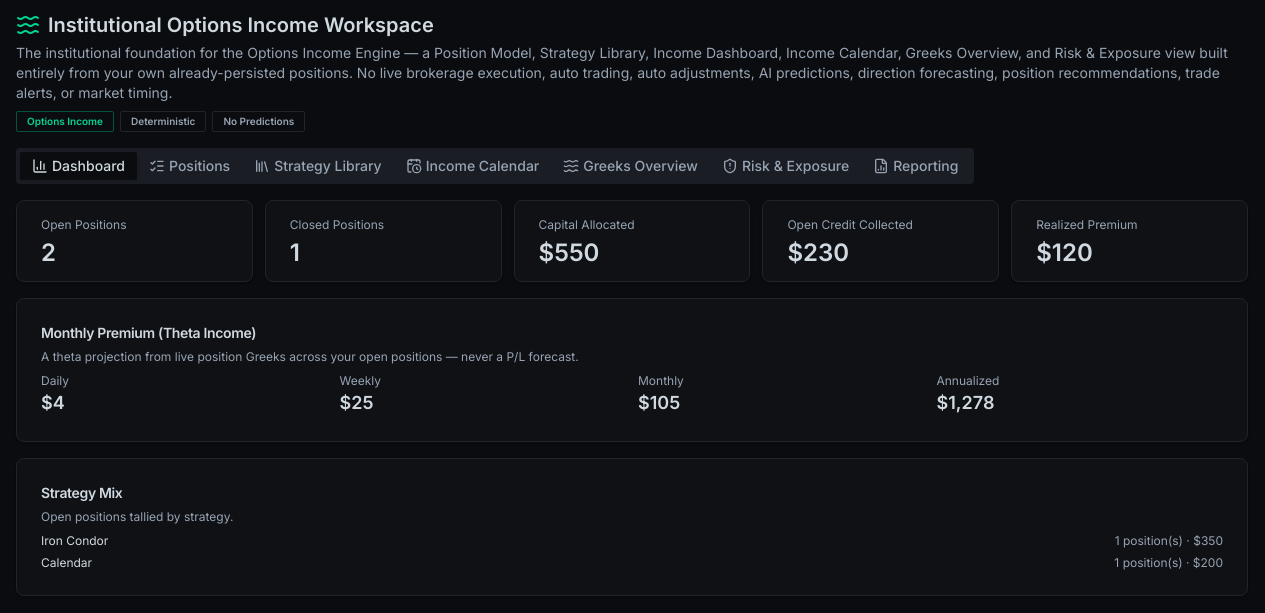
Scenario: OptionsIncomeWorkspace › shows real upcoming expiration groups on the Income Calendar
The width and height of the screenshot is (1265, 613).
Click the tab with test id "tab-oiw-calendar". click: x=472, y=166
box: [394,152,551,180]
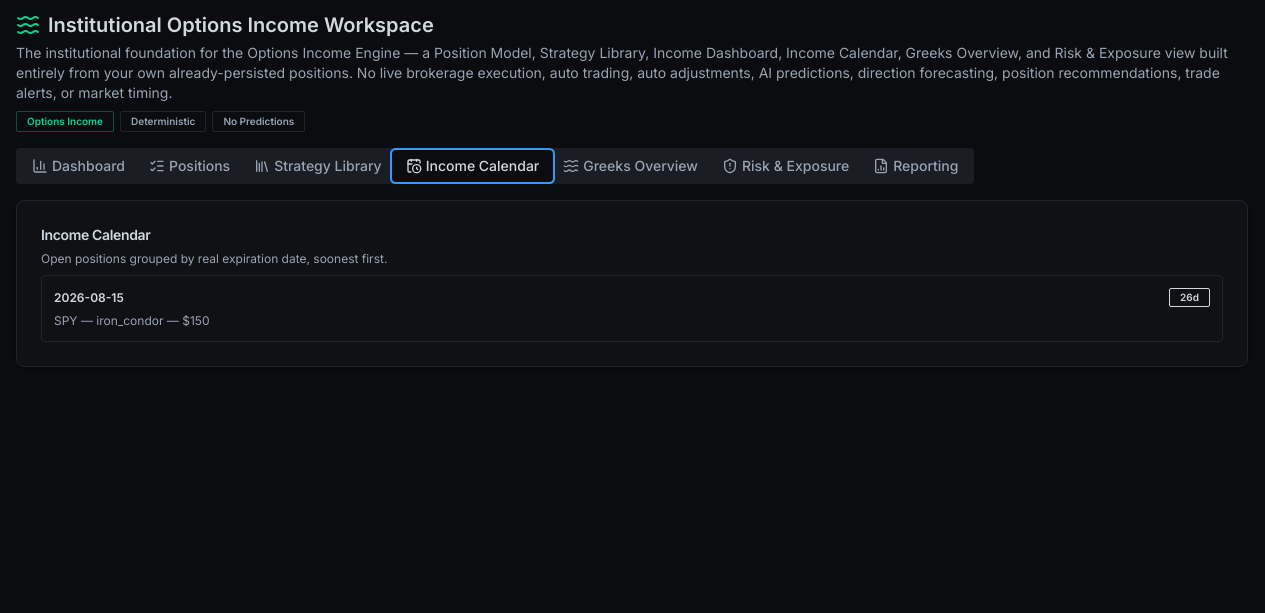
Expected: the element with test id "calendar-group-2026-08-15" shows "26d", [41,275,1223,342]
